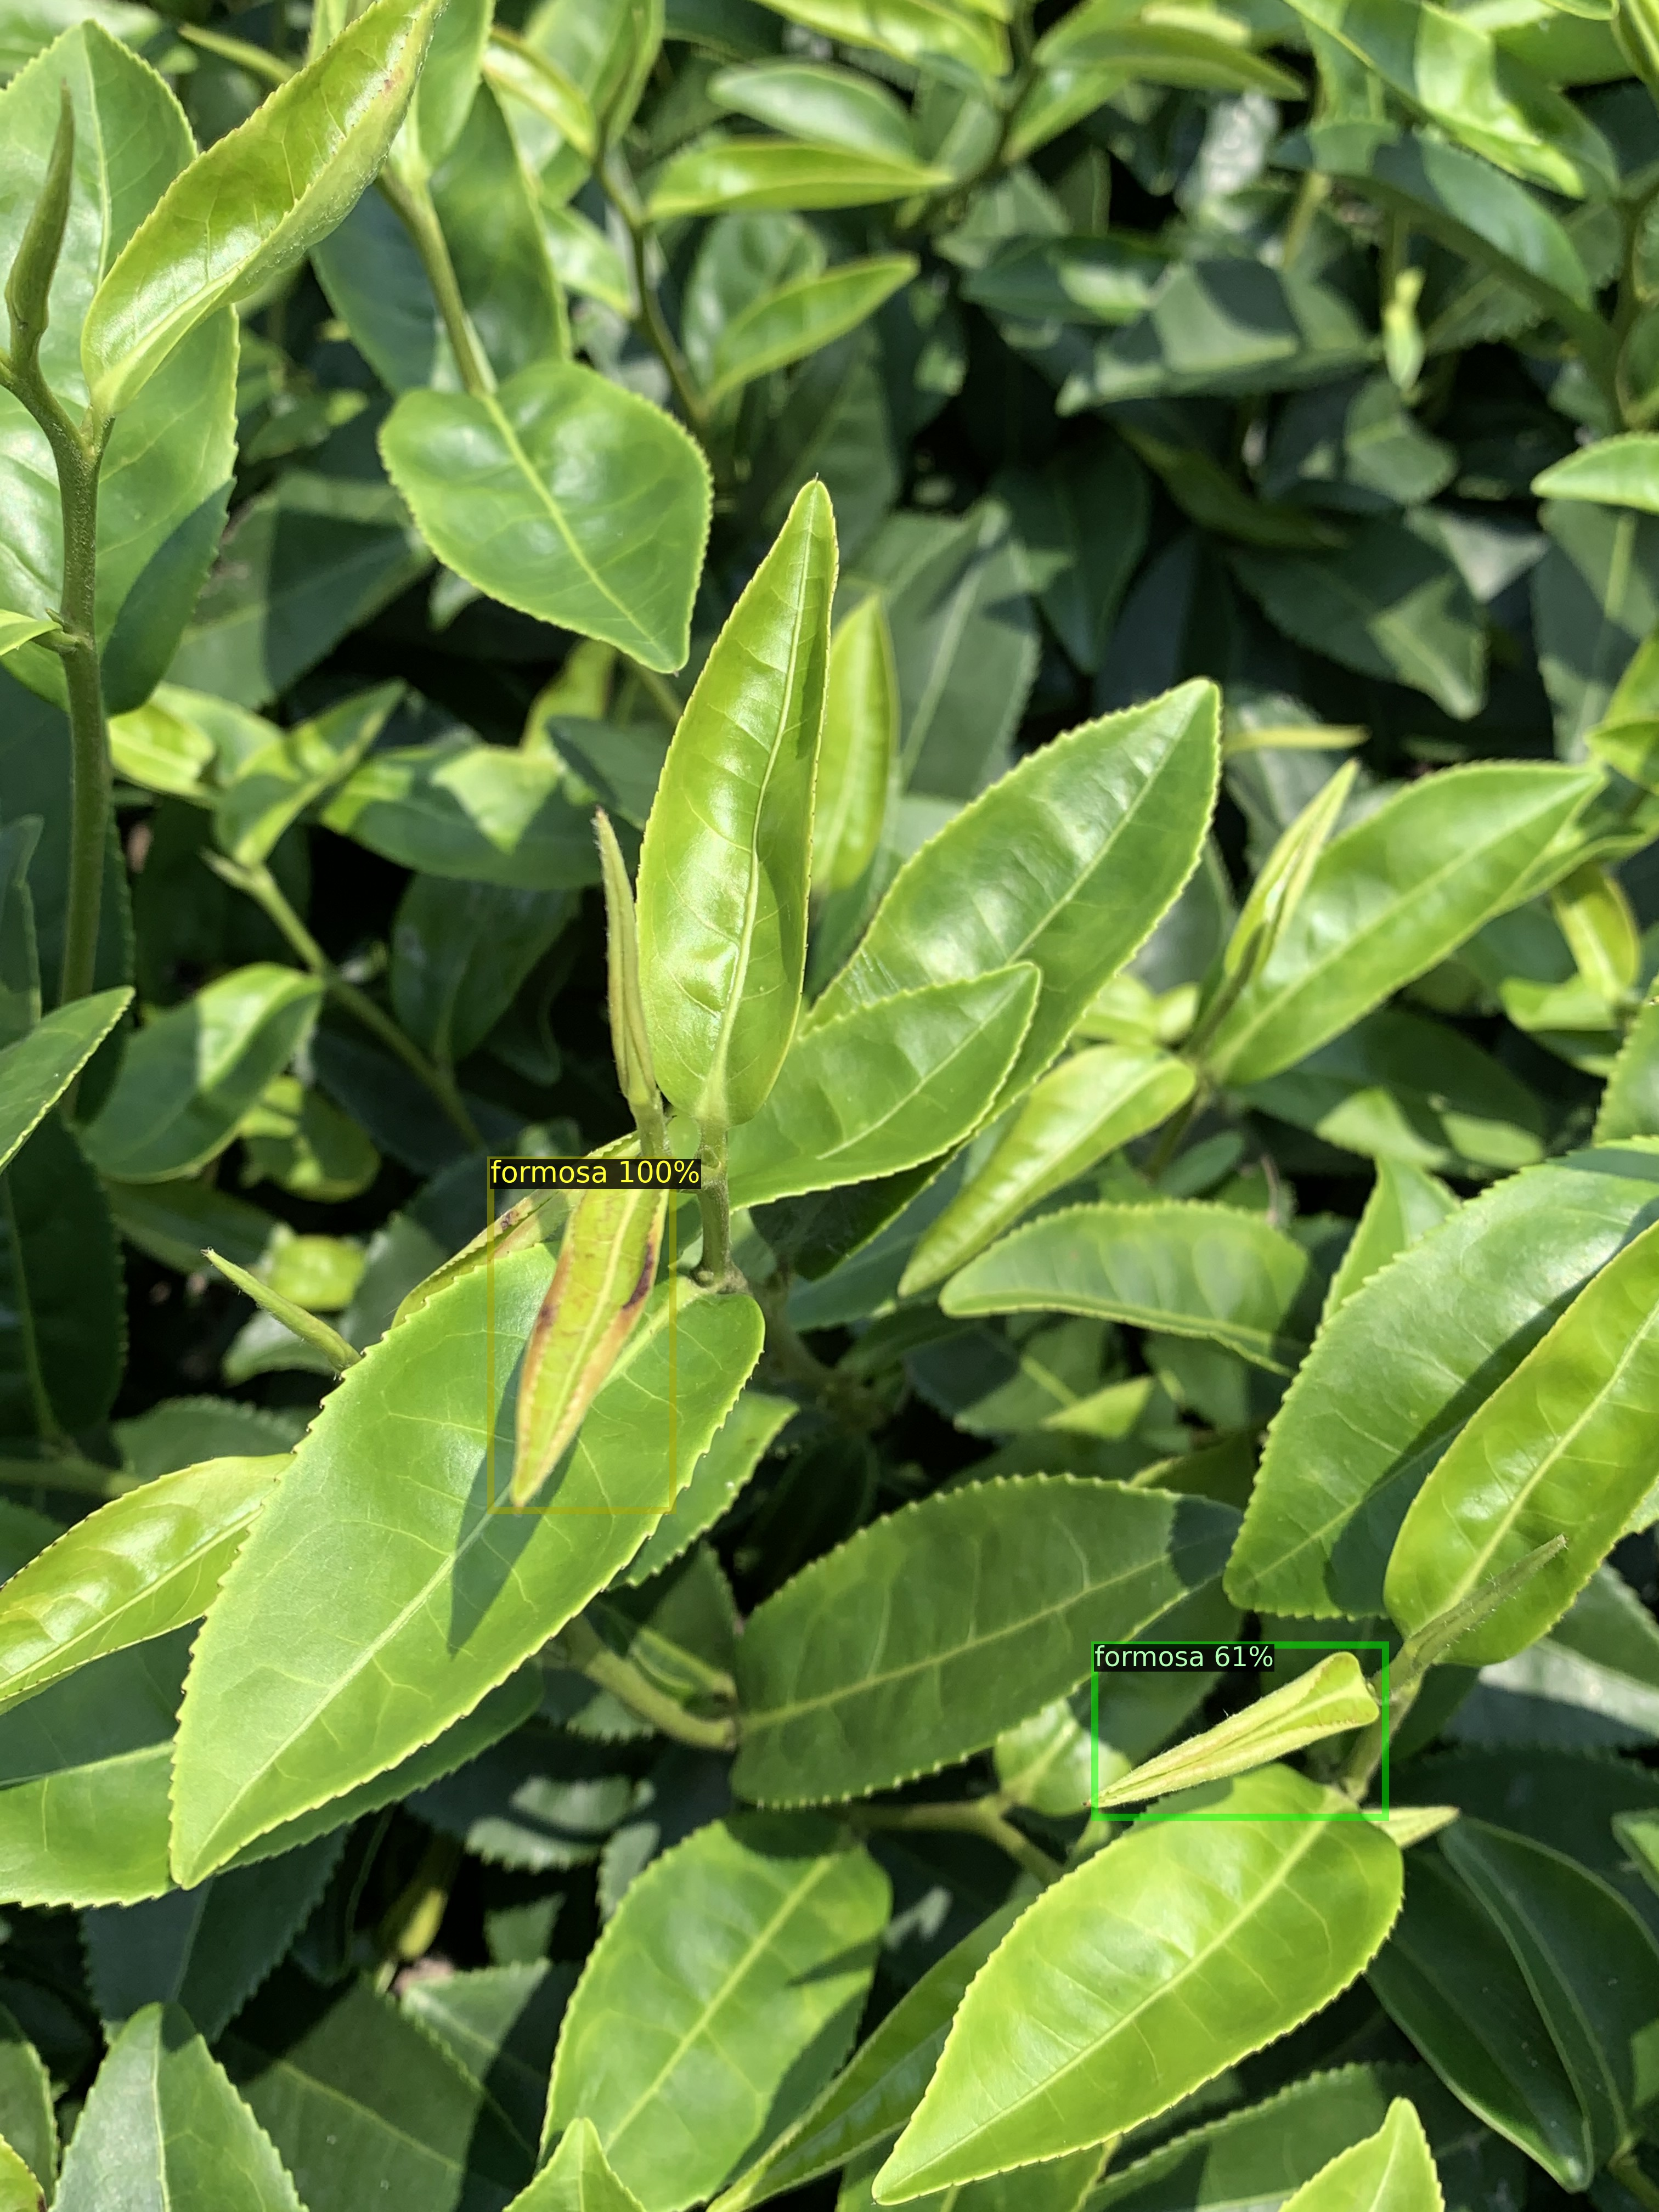formosa: (490, 1160, 673, 1510), (1094, 1644, 1385, 1817)
